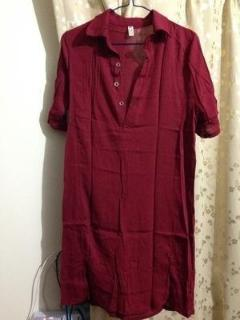long sleeve dress: (47, 9, 220, 319)
